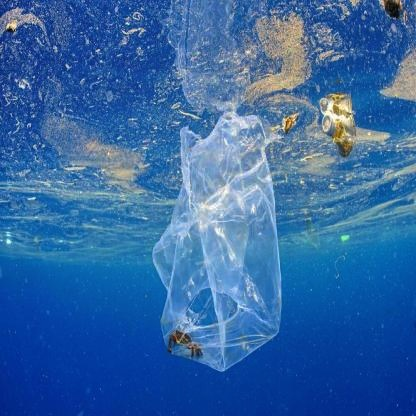pbag: (150, 110, 283, 371)
plastic: (322, 109, 355, 161)
